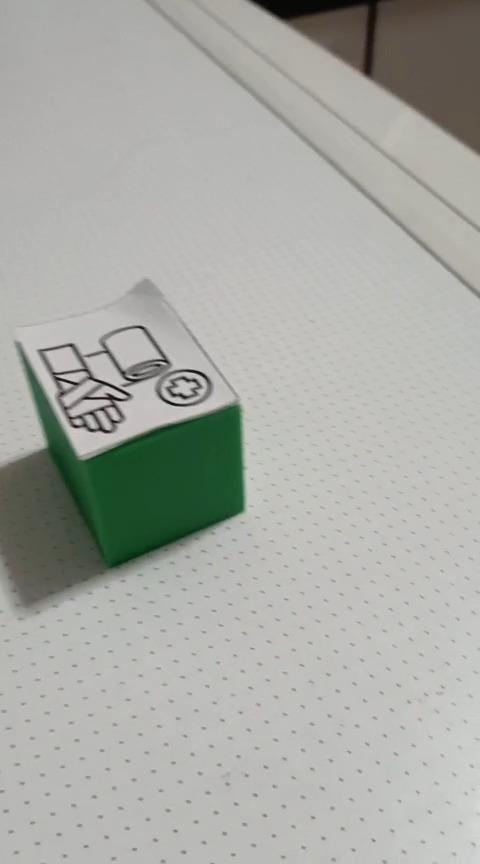Bandages: (13, 276, 246, 568)
